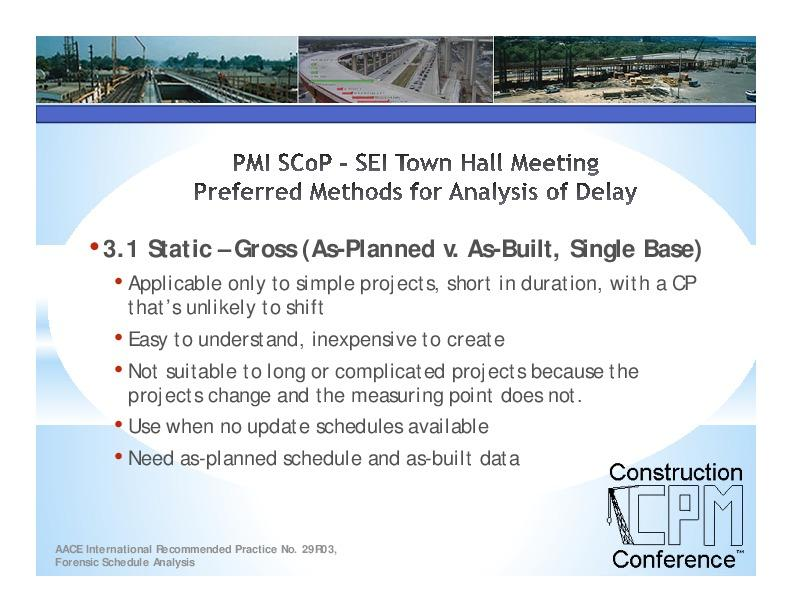paragraph: (100, 263, 714, 480)
subtitle: (81, 225, 719, 265), (45, 532, 356, 574)
title: (176, 142, 657, 214)
